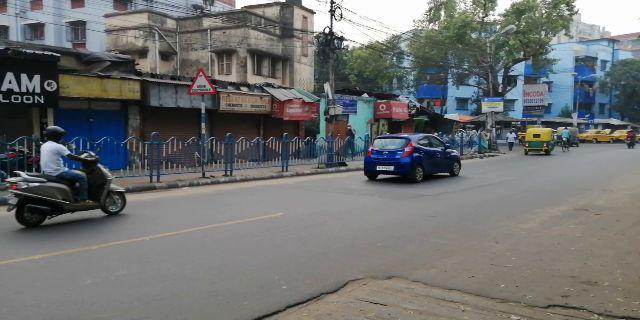Autorickshaw: (520, 128, 556, 155)
Car: (363, 130, 461, 187)
Motorbike: (6, 128, 129, 230)
